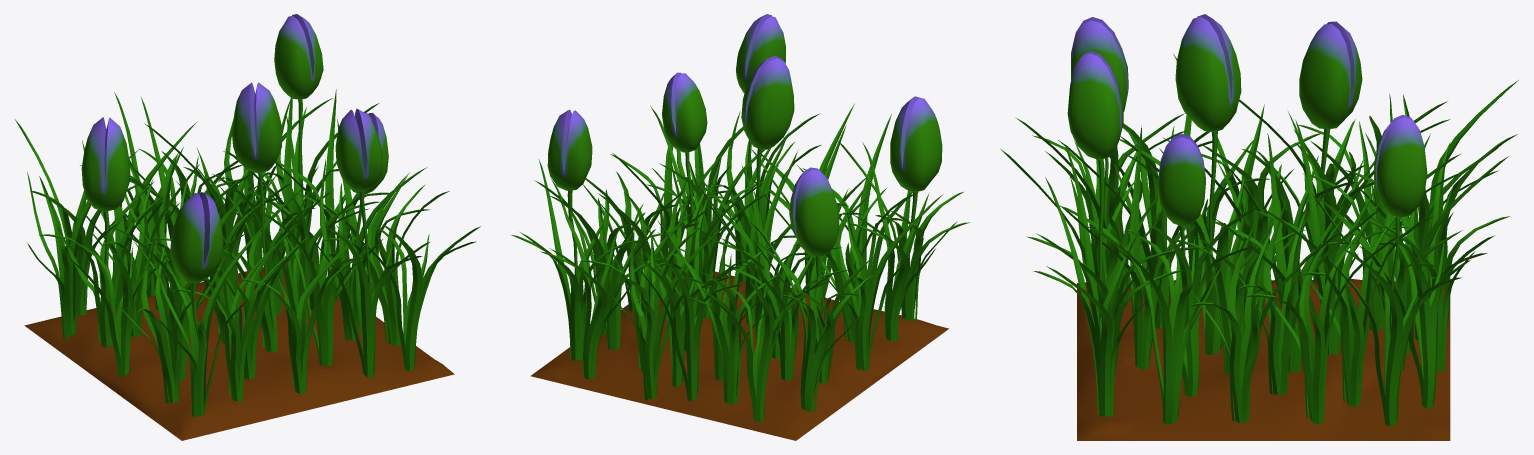
File: purple-tulip-p3-leaf.glb
The picture shows the model from 3 angles, left to right: view 1: azimuth 30°, elevation 25°; view 2: azimuth 150°, elevation 25°; view 3: azimuth 270°, elevation 25°; orthographic projection. The views are drawn at different scales.
Parts seen in each view (by area): view 1: 3_nft_out_of _bloom; view 2: 3_nft_out_of _bloom; view 3: 3_nft_out_of _bloom.
Boxes of the visible parts, left/top/right/bottom form: 3_nft_out_of _bloom: left=15, top=14, right=480, bottom=440; 3_nft_out_of _bloom: left=511, top=14, right=970, bottom=440; 3_nft_out_of _bloom: left=1000, top=14, right=1518, bottom=440.
Bounding box in the file's own units: 0.8884 × 0.7044 × 0.9749.
Materials: 3 (1 with a texture image).
